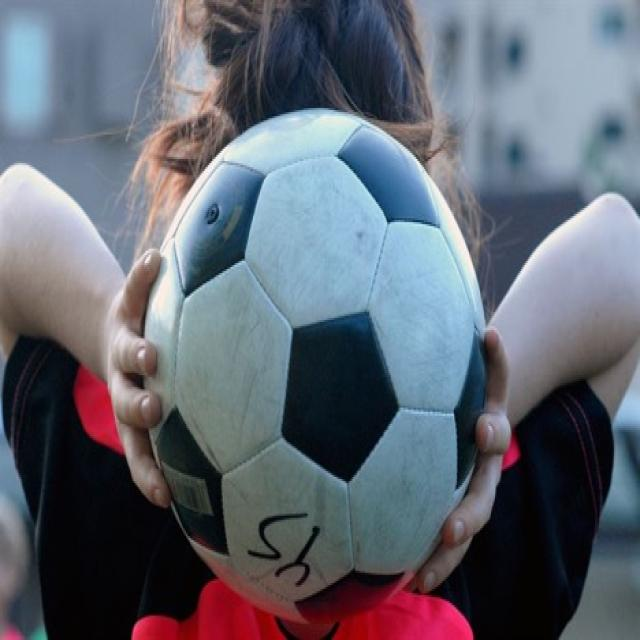soccer ball: (145, 110, 488, 624)
